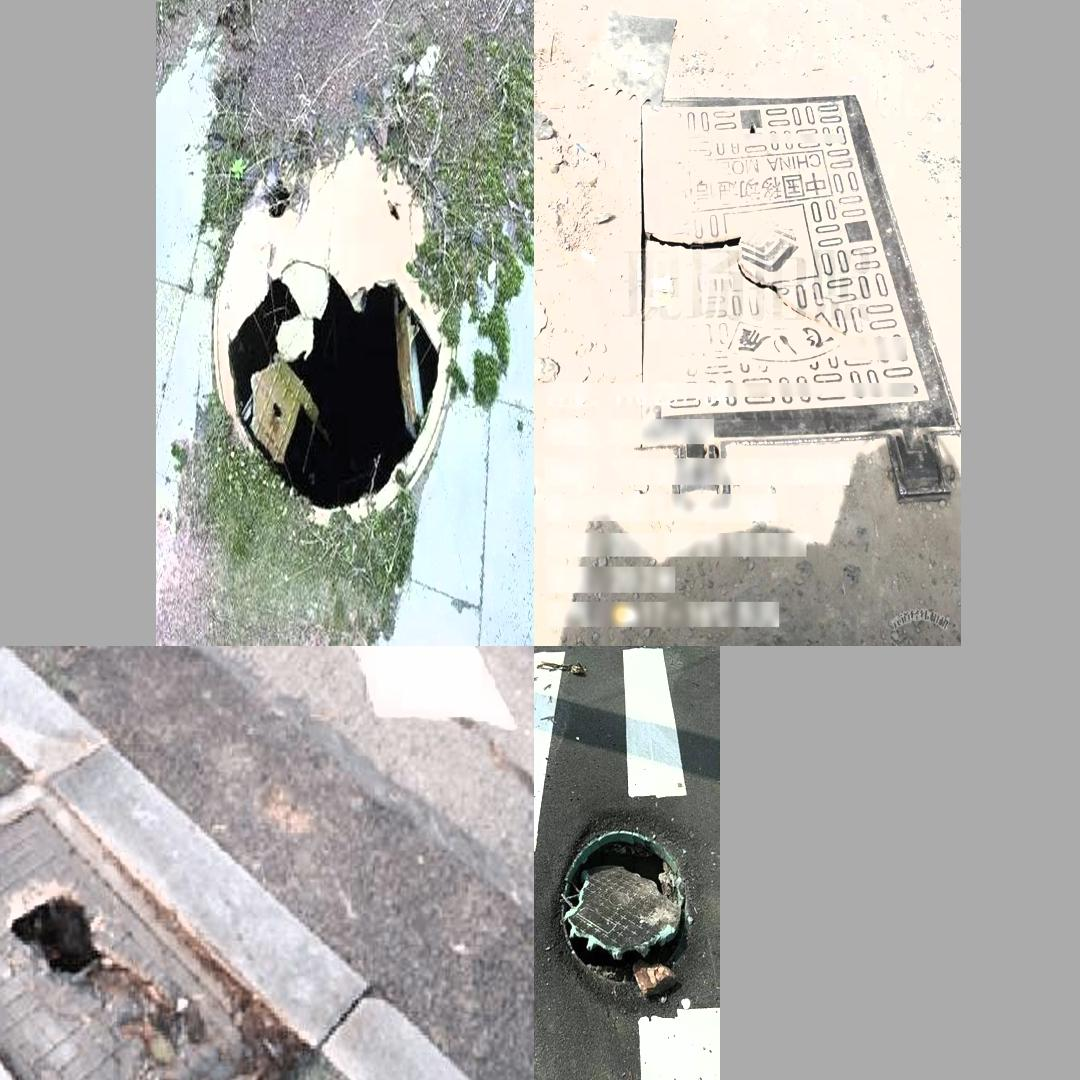broke: (632, 92, 961, 511), (188, 126, 477, 540), (0, 746, 320, 1080), (539, 805, 713, 1010)
